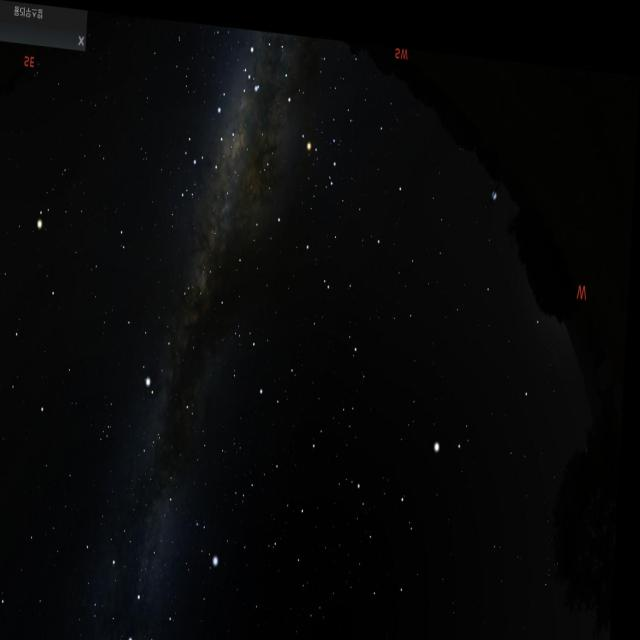aquila: (130, 253, 216, 426)
bootes: (367, 393, 481, 602)
cygnus: (105, 469, 194, 640)
lyra: (193, 509, 227, 573)
sagittarius: (162, 108, 220, 206)
scorpius: (235, 47, 352, 193)
